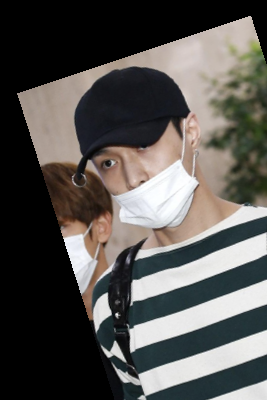mask_weared_incorrect: (63, 69, 227, 236)
